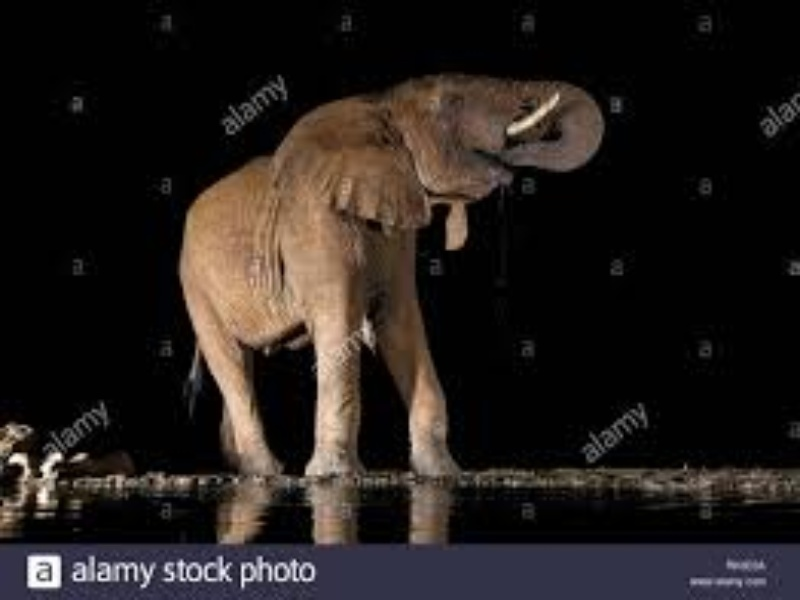elephant: (126, 46, 615, 511)
